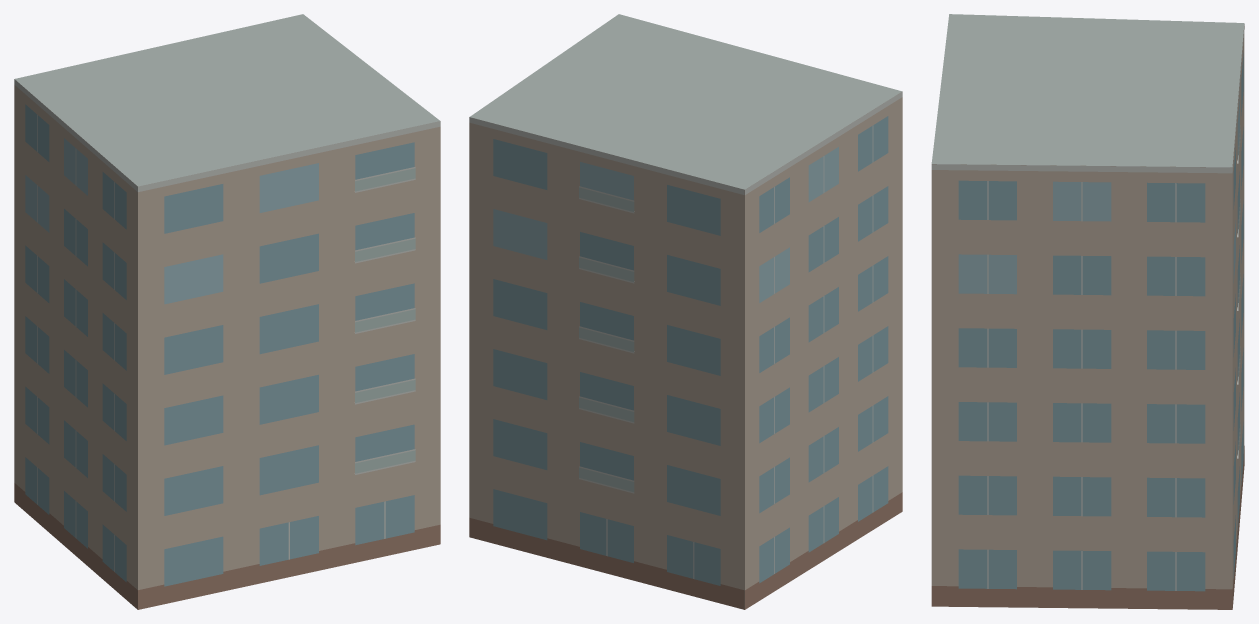
The model's file is survey-upis-32579726.glb.
The picture shows the model from 3 angles, left to right: view 1: azimuth 30°, elevation 25°; view 2: azimuth 150°, elevation 25°; view 3: azimuth 270°, elevation 25°; orthographic projection. The views are drawn at different scales.
Parts seen in each view (by area): view 1: survey-upis-32579726.tmp; view 2: survey-upis-32579726.tmp; view 3: survey-upis-32579726.tmp.
Boxes of the visible parts, <box> form: survey-upis-32579726.tmp: <box>14,14,440,609</box>; survey-upis-32579726.tmp: <box>469,14,902,609</box>; survey-upis-32579726.tmp: <box>931,14,1244,609</box>.
Bounding box in the file's own units: 13.62 × 18.3 × 11.74.
